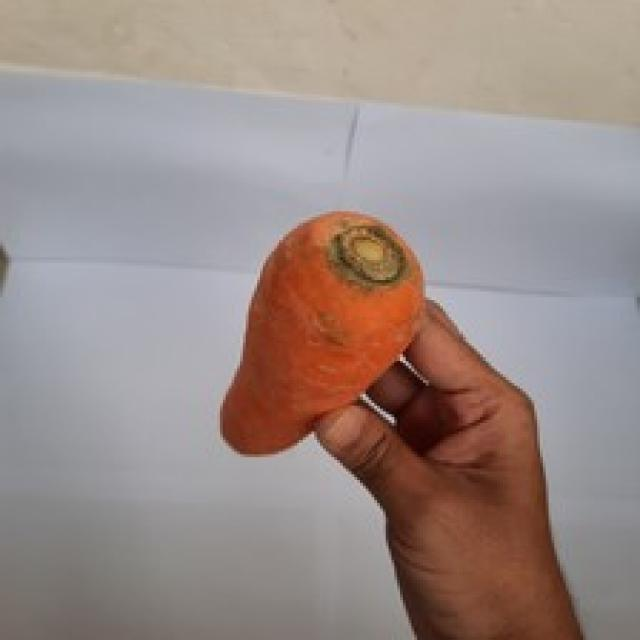Carrot: (221, 211, 424, 453)
